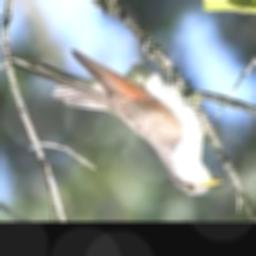Cuckoo: (9, 52, 225, 196)
